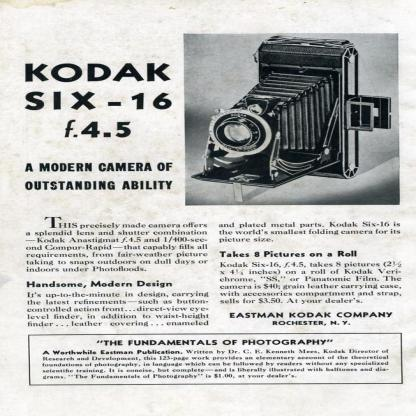Camera: (208, 35, 379, 179)
